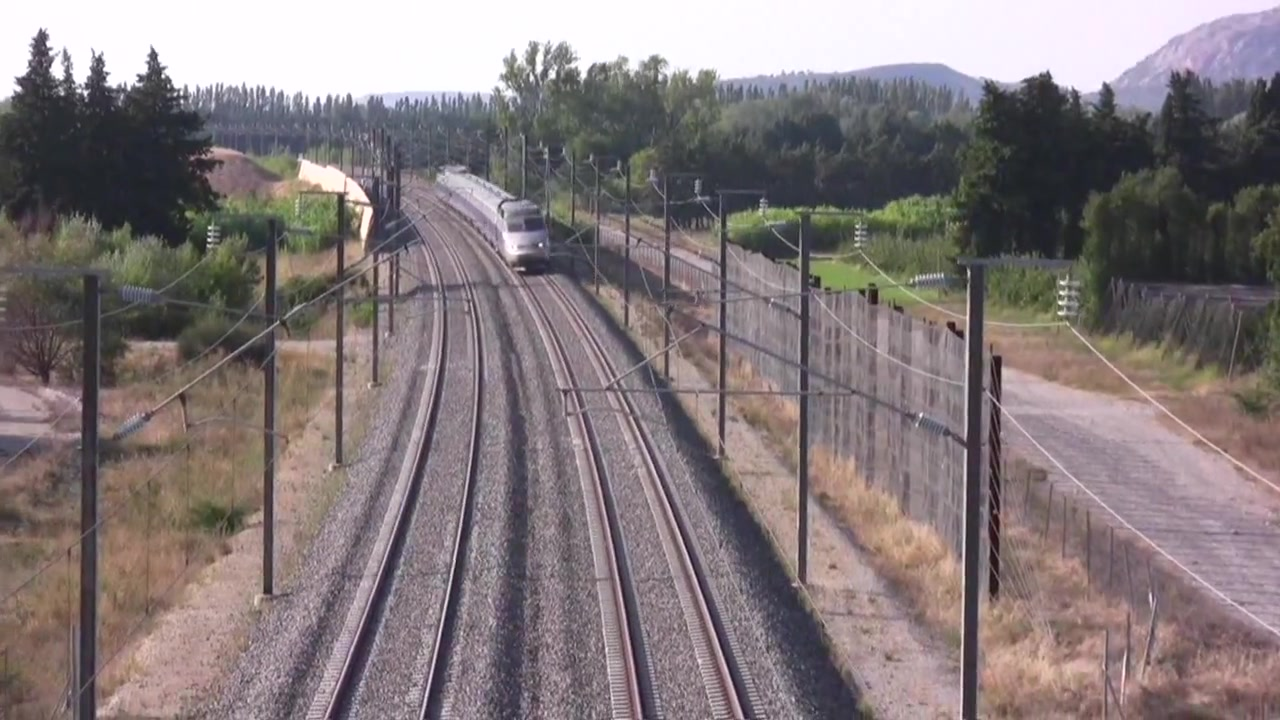train: (435, 157, 554, 269)
